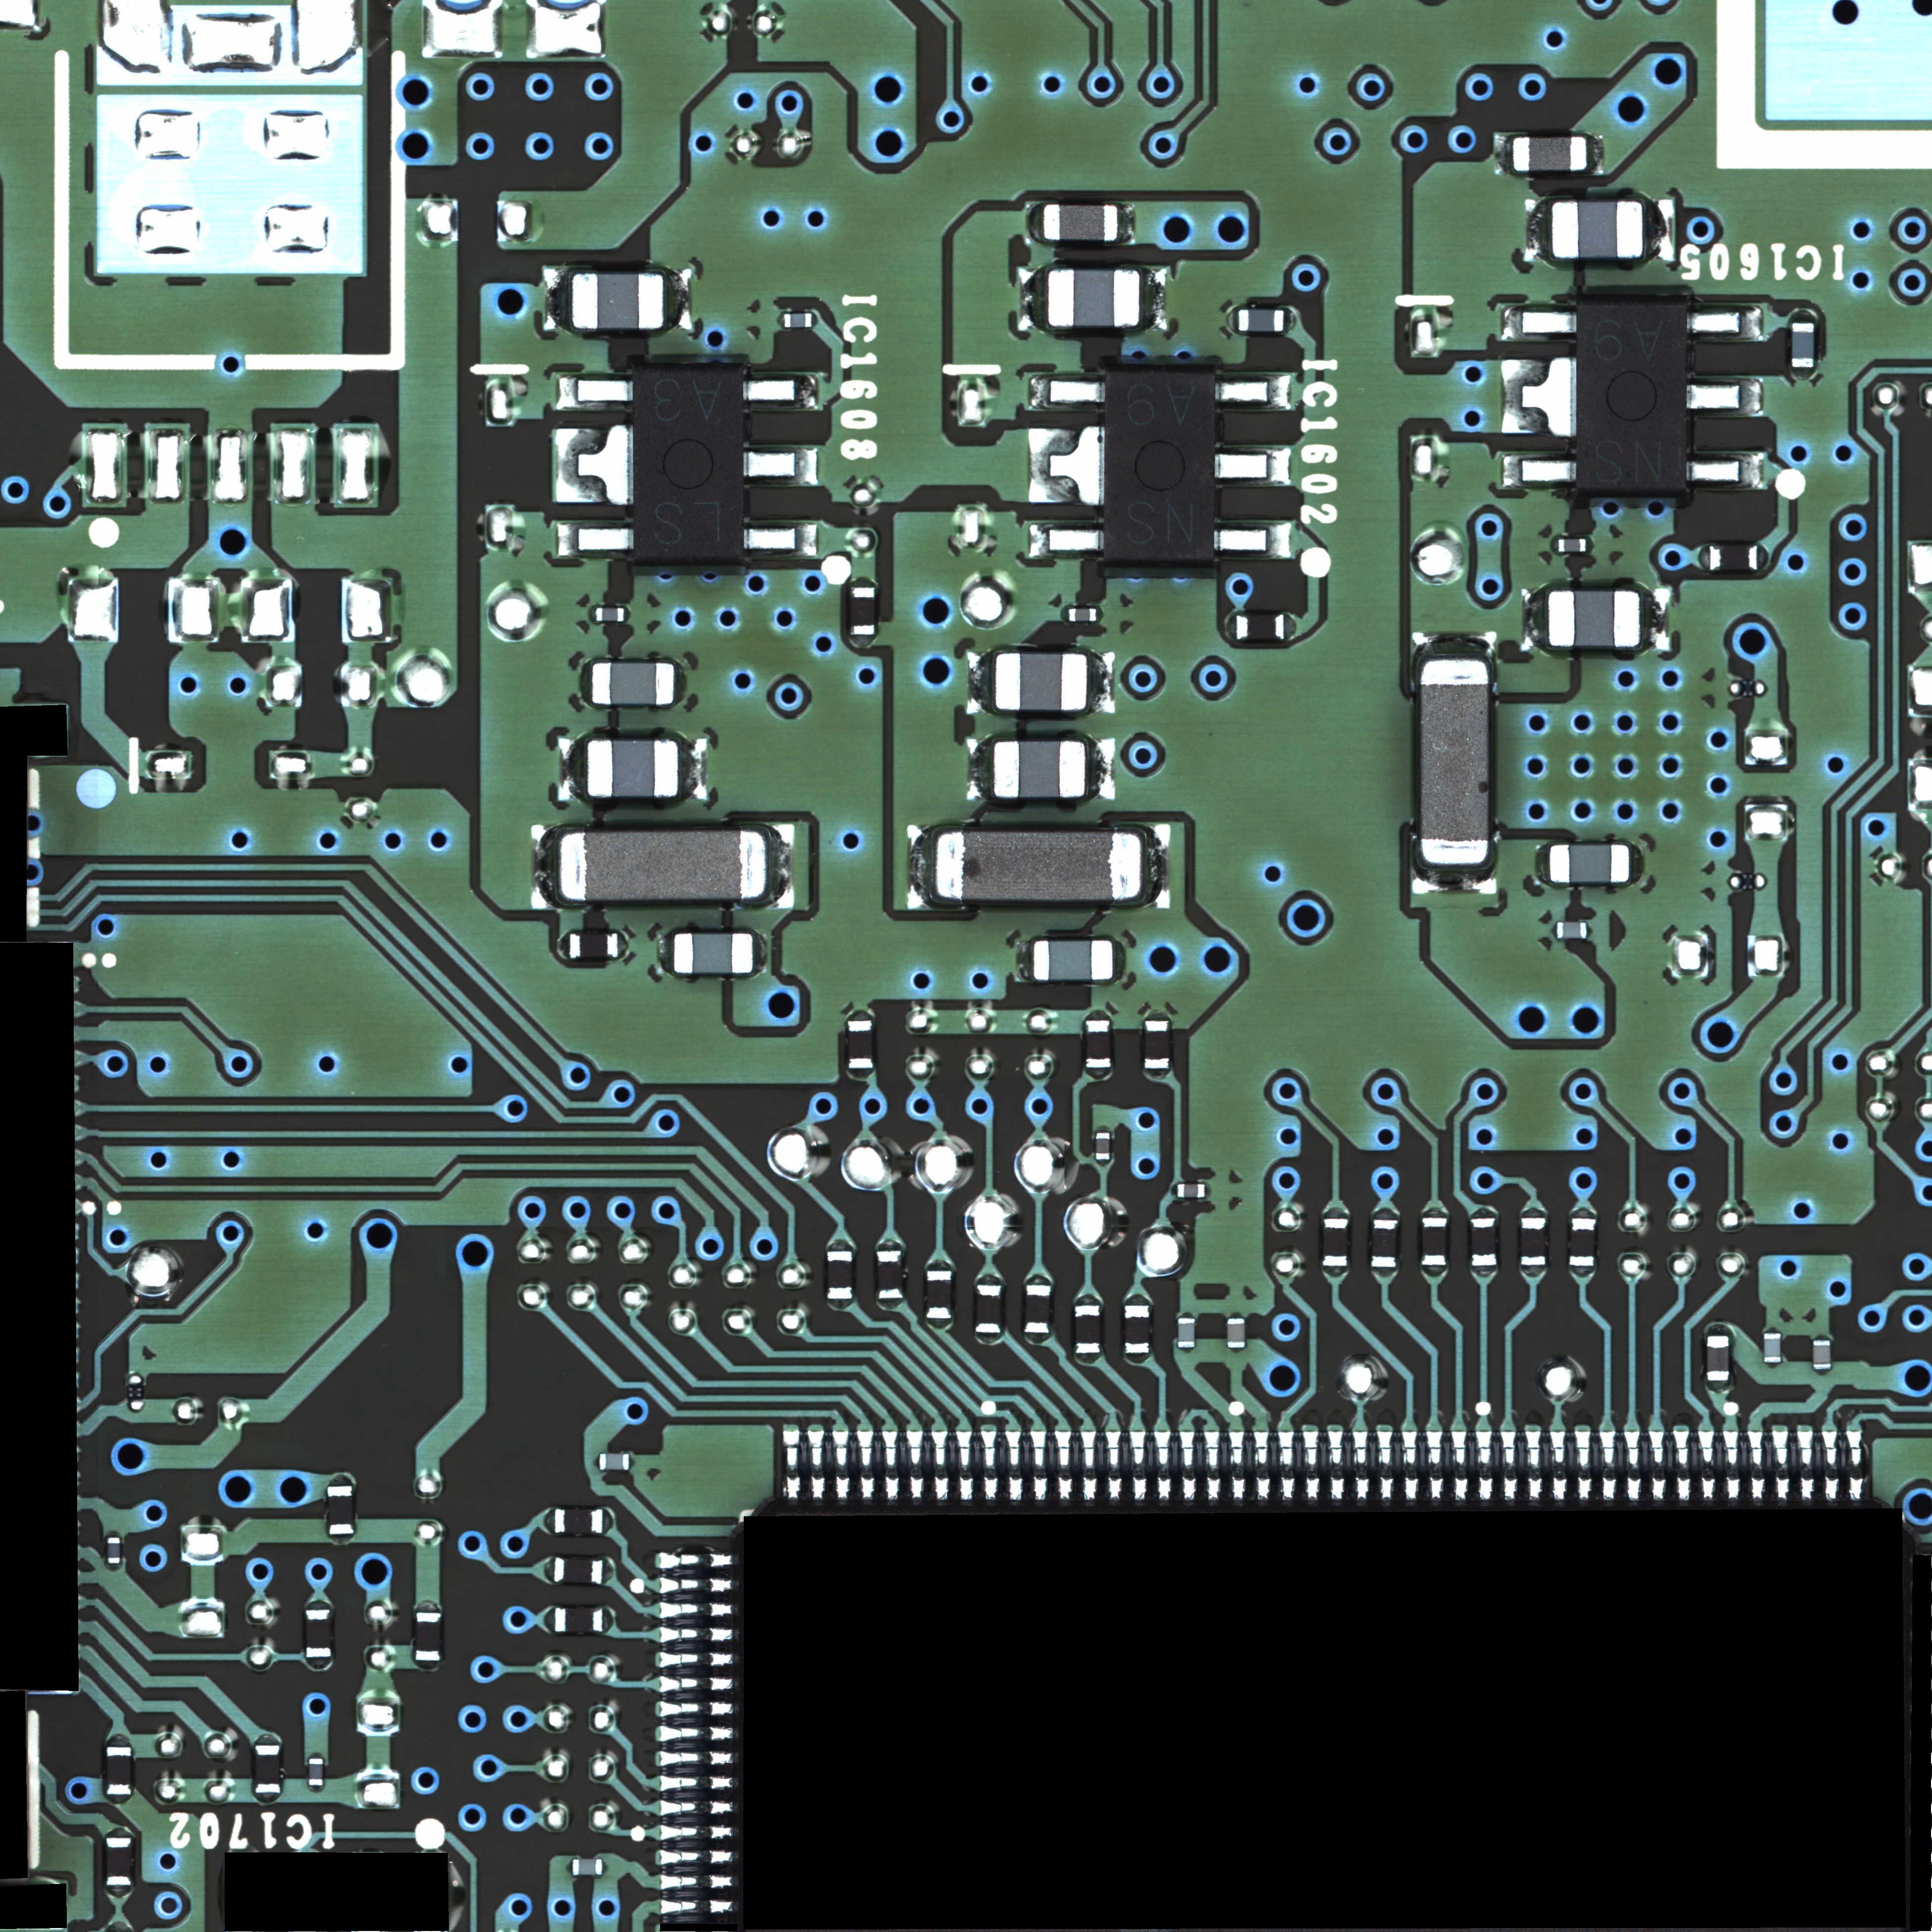Package: (633, 370, 743, 557), (1106, 372, 1214, 561), (1580, 304, 1686, 488), (936, 830, 1141, 901), (1421, 658, 1488, 865), (561, 832, 766, 899), (587, 740, 679, 798), (571, 272, 663, 329), (1548, 589, 1640, 646), (1049, 269, 1139, 326), (996, 653, 1086, 709), (994, 741, 1085, 798), (1552, 202, 1642, 257), (591, 662, 674, 704), (1033, 939, 1115, 980), (1548, 844, 1629, 883), (674, 934, 754, 973), (1044, 203, 1116, 241), (1513, 136, 1587, 172), (327, 1484, 354, 1534), (1085, 1019, 1111, 1069), (414, 1612, 441, 1660), (304, 1608, 331, 1656), (847, 1021, 874, 1069), (1145, 1019, 1169, 1069), (1711, 545, 1757, 571), (570, 932, 617, 957), (554, 1557, 602, 1582), (257, 1744, 281, 1792), (106, 1746, 131, 1794), (106, 1838, 131, 1884), (851, 587, 874, 635), (828, 1251, 851, 1299), (878, 1251, 901, 1299), (927, 1270, 950, 1318), (977, 1284, 1000, 1332), (1076, 1306, 1099, 1353), (1422, 1217, 1445, 1265), (1522, 1217, 1545, 1265), (1571, 1219, 1594, 1267), (1237, 616, 1284, 639), (556, 1509, 602, 1532), (556, 1608, 602, 1631), (1238, 308, 1284, 331), (1026, 1286, 1049, 1332), (1125, 1306, 1148, 1352), (1323, 1219, 1346, 1265), (1373, 1221, 1396, 1267), (1472, 1219, 1495, 1265), (1790, 322, 1813, 366), (1707, 1336, 1729, 1382), (1812, 1339, 1831, 1369), (600, 1453, 630, 1470), (1764, 1334, 1782, 1362), (571, 1859, 602, 1875), (1178, 1318, 1194, 1348), (1228, 1318, 1244, 1348), (1557, 922, 1587, 938), (1177, 1184, 1205, 1198), (786, 313, 812, 327), (596, 607, 623, 621), (308, 1759, 322, 1785), (1095, 1132, 1109, 1159), (1559, 538, 1585, 552), (108, 1536, 120, 1564), (1069, 609, 1097, 621)
Solder: (556, 425, 632, 504), (1028, 426, 1104, 504), (1500, 359, 1578, 435), (1688, 377, 1764, 416), (1215, 448, 1292, 485), (1688, 451, 1764, 488), (1502, 304, 1578, 341), (1688, 304, 1762, 341), (745, 448, 817, 485), (556, 375, 632, 410), (1215, 375, 1292, 410), (1215, 522, 1292, 557), (745, 375, 819, 410), (557, 522, 632, 557), (1030, 524, 1104, 559), (1502, 455, 1578, 488), (1141, 824, 1171, 909), (1412, 865, 1497, 895), (745, 524, 817, 557), (1031, 375, 1104, 409), (531, 824, 559, 909), (768, 823, 794, 909), (908, 824, 934, 909), (1412, 632, 1497, 658), (1640, 587, 1672, 651), (1017, 267, 1047, 331), (1644, 200, 1674, 262), (679, 738, 708, 801), (1139, 267, 1168, 331), (968, 651, 996, 715), (1086, 738, 1115, 800), (663, 271, 692, 331), (543, 269, 570, 331), (559, 738, 586, 800), (1088, 651, 1115, 713), (966, 738, 993, 800), (1525, 198, 1552, 260), (1522, 589, 1548, 651), (782, 1430, 800, 1499), (833, 1430, 851, 1499), (858, 1430, 876, 1499), (883, 1430, 901, 1499), (932, 1430, 950, 1499), (980, 1430, 998, 1499), (1031, 1430, 1049, 1499), (1131, 1430, 1148, 1499), (1426, 1431, 1444, 1500), (1203, 1431, 1221, 1500), (1178, 1431, 1196, 1500), (1254, 1431, 1272, 1500), (1277, 1431, 1295, 1500), (1302, 1431, 1320, 1500), (1352, 1431, 1369, 1500), (1376, 1431, 1394, 1500), (1401, 1431, 1419, 1500), (1451, 1431, 1468, 1500), (1550, 1430, 1568, 1499), (1624, 1431, 1642, 1500), (1723, 1430, 1741, 1499), (1822, 1430, 1840, 1499), (807, 1431, 824, 1499), (908, 1431, 925, 1499), (957, 1431, 975, 1499), (1005, 1431, 1023, 1499), (1054, 1431, 1072, 1499), (1081, 1431, 1099, 1499), (1155, 1431, 1173, 1499), (1230, 1431, 1247, 1499), (1327, 1431, 1345, 1499), (1525, 1431, 1543, 1499), (1575, 1431, 1592, 1499), (1599, 1431, 1617, 1499), (1649, 1431, 1667, 1499), (1674, 1431, 1691, 1499), (1500, 1431, 1518, 1499), (1476, 1431, 1493, 1499), (1698, 1431, 1716, 1499), (1748, 1431, 1766, 1499), (1773, 1431, 1790, 1499), (1798, 1431, 1815, 1499), (1847, 1431, 1865, 1499), (662, 1898, 734, 1914), (662, 1874, 734, 1890), (660, 1824, 732, 1840), (660, 1725, 732, 1741), (660, 1775, 732, 1790), (658, 1553, 731, 1569), (658, 1578, 731, 1594), (660, 1603, 732, 1619), (658, 1626, 731, 1642), (660, 1652, 732, 1668), (660, 1675, 732, 1691), (660, 1702, 732, 1718), (662, 1849, 732, 1865), (1106, 1431, 1122, 1499), (660, 1752, 732, 1766), (660, 1801, 732, 1815), (1118, 202, 1136, 242), (1016, 939, 1033, 980), (1587, 133, 1605, 173), (656, 931, 672, 973), (754, 929, 768, 977), (1026, 202, 1042, 244), (1495, 133, 1511, 175), (1631, 842, 1645, 885), (1534, 842, 1548, 885), (579, 660, 591, 706), (676, 662, 688, 706), (1115, 938, 1125, 982), (106, 1886, 133, 1900), (557, 931, 570, 959), (602, 1507, 614, 1536), (104, 1734, 131, 1746), (602, 1557, 614, 1583), (543, 1507, 556, 1534), (304, 1658, 331, 1670), (414, 1599, 441, 1612), (826, 1238, 853, 1251), (876, 1238, 902, 1251), (925, 1258, 952, 1270), (1790, 308, 1813, 322), (602, 1608, 614, 1633), (543, 1608, 556, 1633), (1284, 308, 1297, 333), (1145, 1069, 1169, 1081), (1125, 1352, 1150, 1364), (1323, 1207, 1348, 1219), (1373, 1207, 1398, 1219), (1422, 1265, 1447, 1277), (1706, 1382, 1730, 1394), (253, 1734, 281, 1744), (543, 1555, 554, 1583), (327, 1536, 356, 1546), (1792, 368, 1813, 382), (851, 635, 874, 648), (1076, 1293, 1099, 1306), (977, 1332, 1000, 1345), (1522, 1265, 1545, 1277), (1472, 1265, 1495, 1277), (1571, 1207, 1594, 1219), (1571, 1267, 1594, 1279), (619, 932, 630, 959), (106, 1796, 133, 1806), (255, 1794, 281, 1805), (327, 1474, 354, 1484), (414, 1660, 441, 1670), (1085, 1008, 1111, 1019), (878, 1299, 904, 1309), (1759, 545, 1769, 571), (106, 1826, 131, 1836), (1226, 308, 1237, 333), (847, 1008, 872, 1019), (1145, 1008, 1169, 1019), (1086, 1069, 1111, 1079), (1026, 1274, 1051, 1284), (1076, 1353, 1100, 1364), (1024, 1334, 1049, 1345), (828, 1299, 853, 1309), (927, 1318, 952, 1329), (1698, 545, 1709, 570), (1422, 1207, 1447, 1217), (1470, 1207, 1495, 1217), (851, 575, 874, 586), (849, 1069, 872, 1079), (977, 1274, 1000, 1284), (1125, 1293, 1148, 1304), (1286, 616, 1297, 639), (1226, 616, 1237, 639), (1323, 1267, 1346, 1277), (1522, 1207, 1545, 1217), (1707, 1323, 1729, 1334), (306, 1599, 331, 1608), (1373, 1269, 1396, 1277), (587, 605, 596, 623), (1550, 536, 1559, 554), (623, 607, 632, 623), (106, 1564, 122, 1573), (1060, 605, 1069, 621), (564, 1858, 571, 1875), (593, 1453, 600, 1470), (1097, 605, 1104, 623), (1205, 1182, 1212, 1200), (1587, 536, 1594, 554), (1812, 1369, 1829, 1376), (812, 311, 819, 327), (308, 1752, 324, 1759), (308, 1785, 324, 1792), (1095, 1161, 1111, 1168), (1228, 1311, 1244, 1318), (1550, 922, 1557, 938), (1766, 1362, 1782, 1369), (603, 1858, 609, 1877), (777, 313, 784, 327), (1095, 1125, 1109, 1132), (1178, 1311, 1192, 1318), (630, 1453, 635, 1470), (1587, 922, 1592, 939), (106, 1530, 122, 1536), (1764, 1327, 1780, 1332), (1813, 1334, 1829, 1339), (1171, 1184, 1177, 1198), (1230, 1348, 1244, 1353), (1180, 1348, 1194, 1353)
